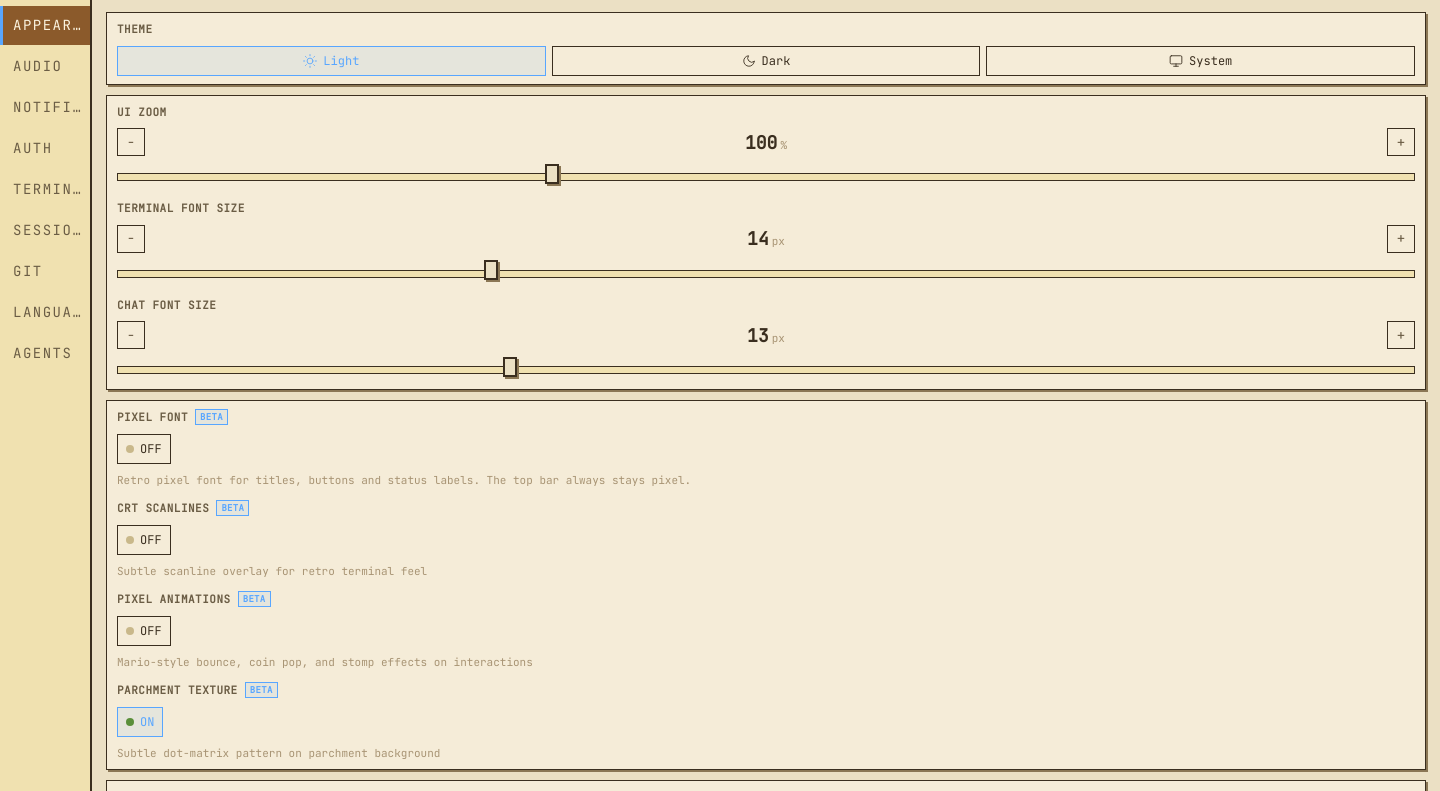
it: Settings session display (expand thinking + collapsed mode) › brings the row back (with the stored mode still active) after turning 展开思考 off again
The width and height of the screenshot is (1440, 791).
Click the button with class "settings-tab" showing "SESSIONS" at x=45, y=230, box [0,211,90,250]
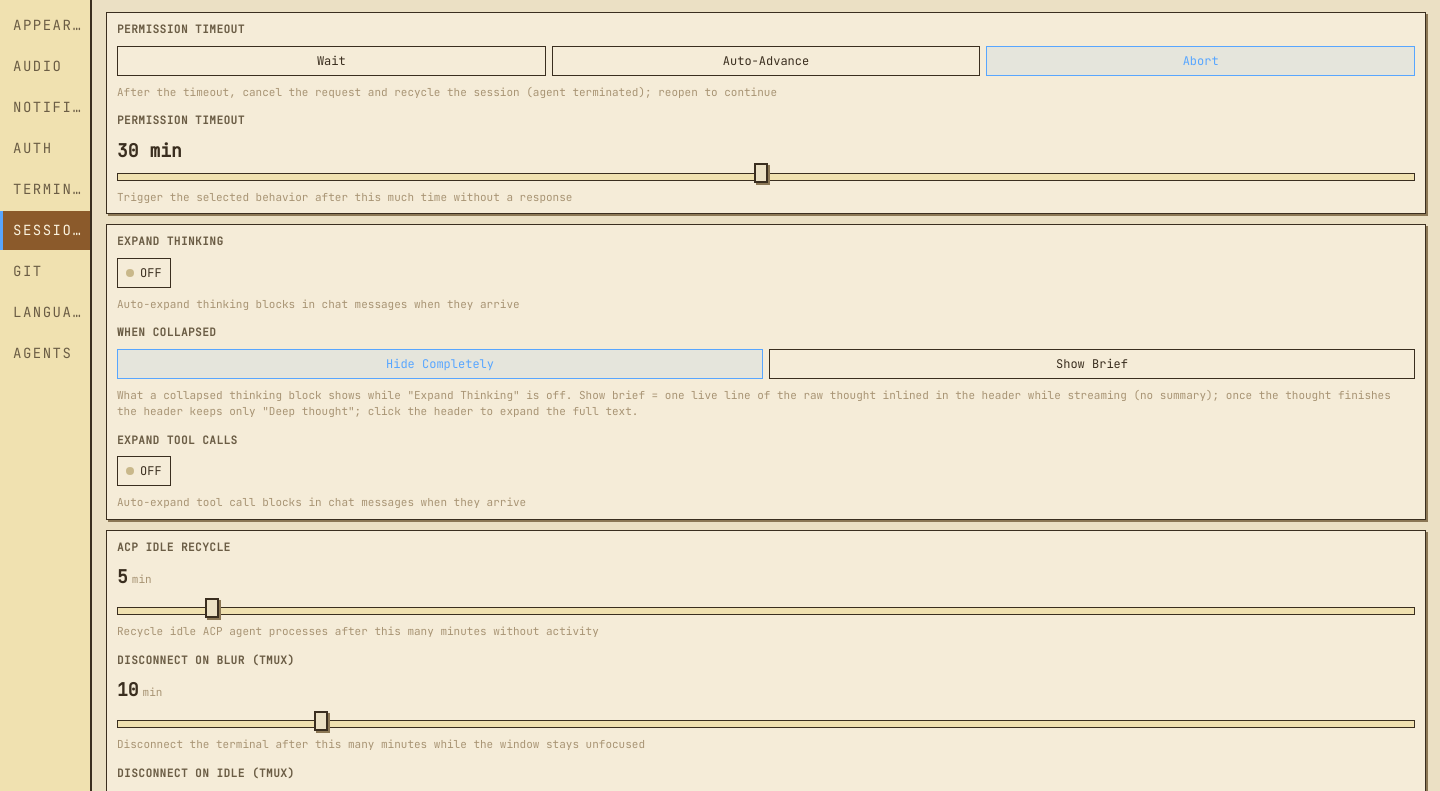
Click the button "Show Brief" at x=1092, y=364, box [769,348,1415,378]
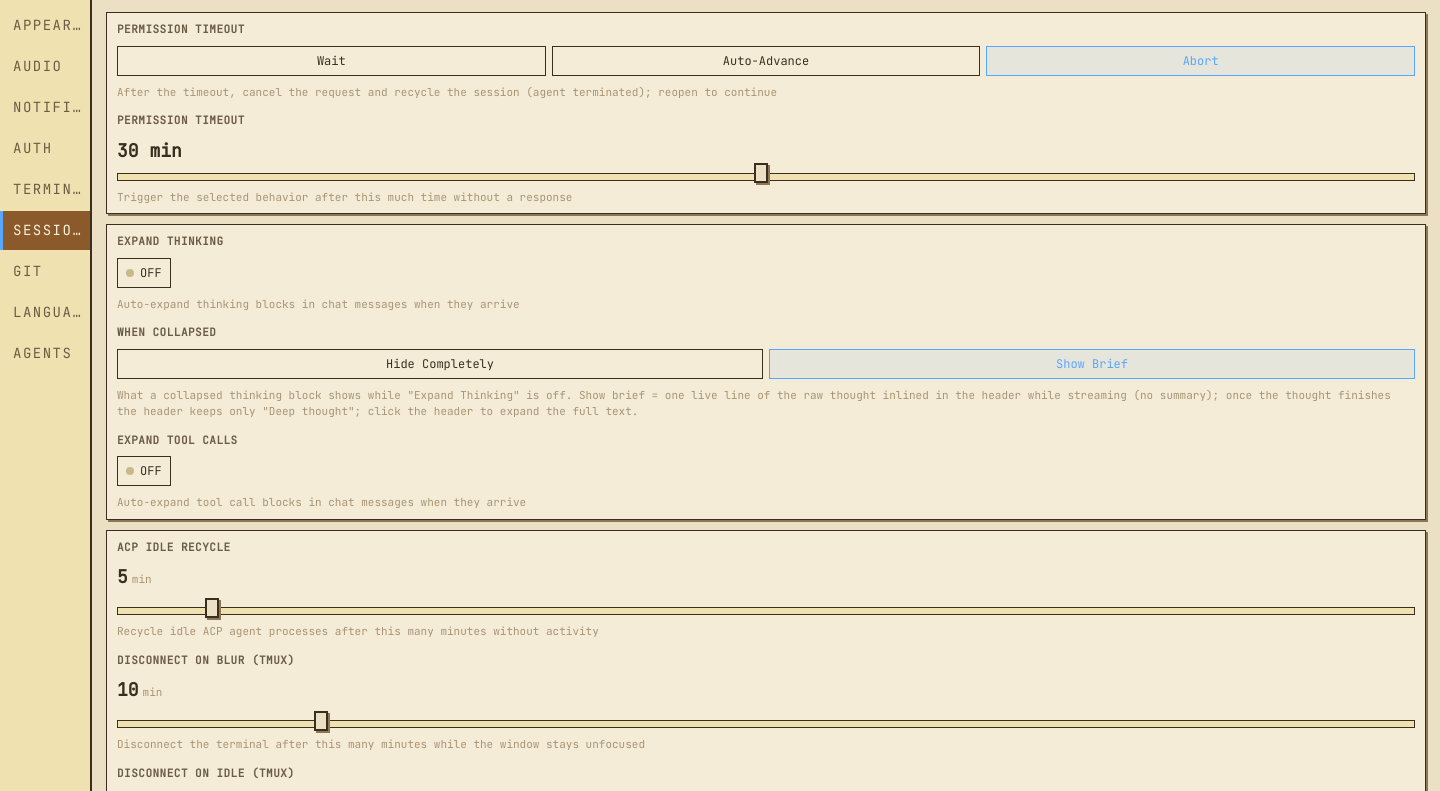
Click the 1st button "OFF" at x=144, y=272, box [117,258,171,288]
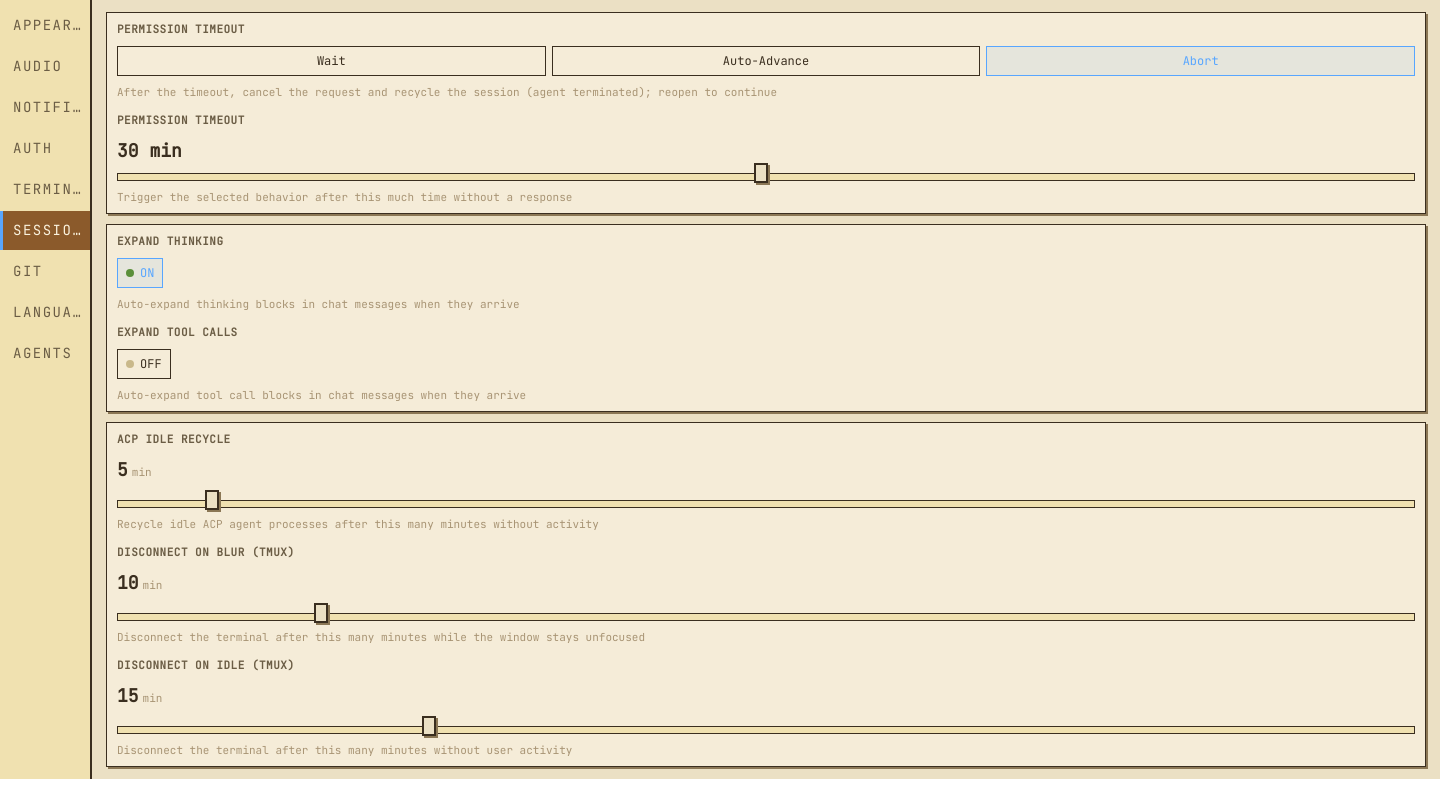
Click the button "ON" at x=140, y=272, box [117,258,163,288]
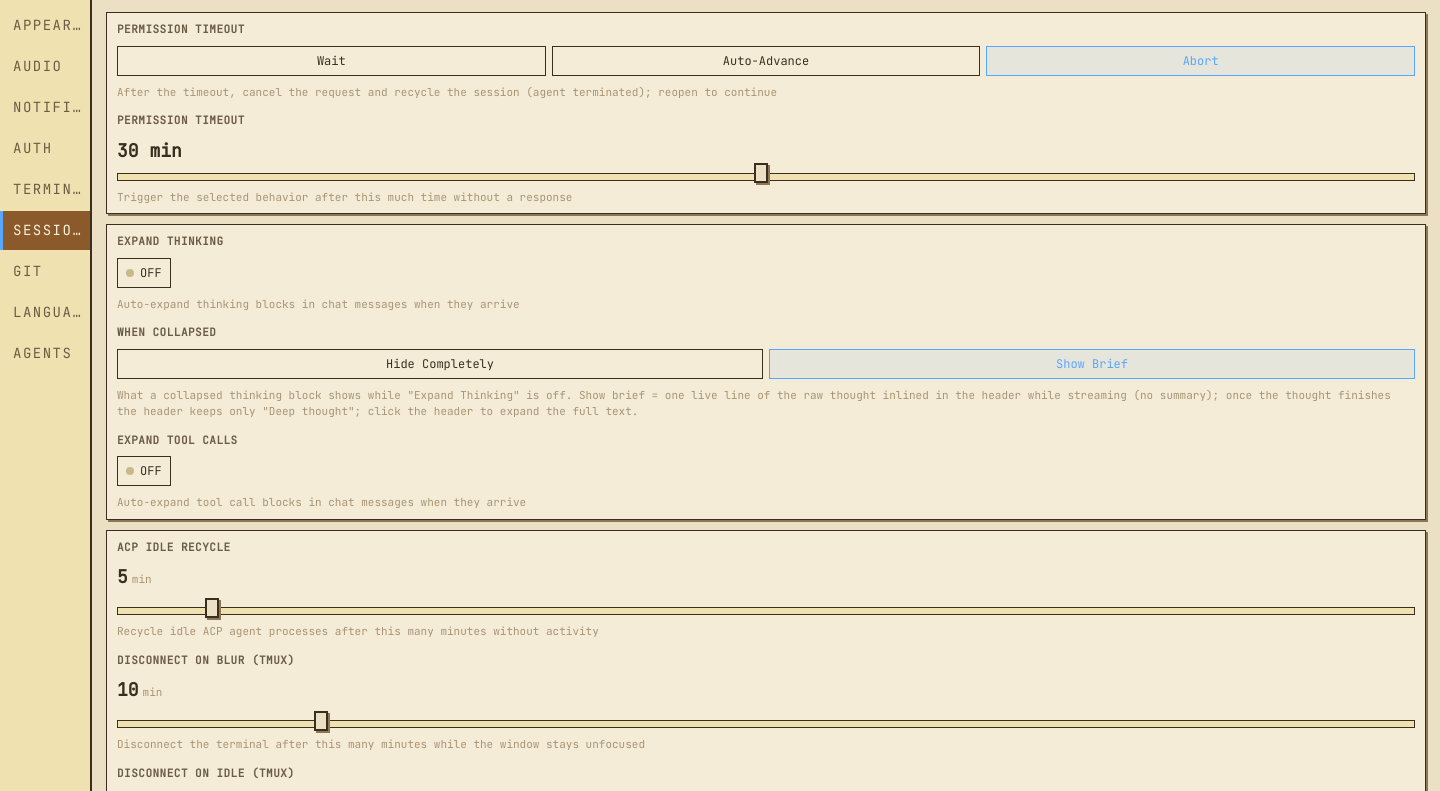
Expected: the element that starts with "When Collapsed" is shown, [117,324,1415,420]
